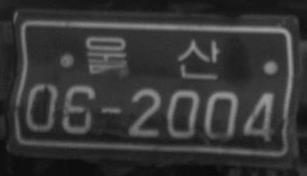-: (97, 104, 124, 117)
0: (203, 89, 240, 143), (24, 81, 60, 134), (165, 88, 200, 140)
2: (126, 86, 163, 138)
4: (241, 91, 276, 145)
6: (60, 82, 95, 136)
울산_D: (84, 35, 221, 81)
